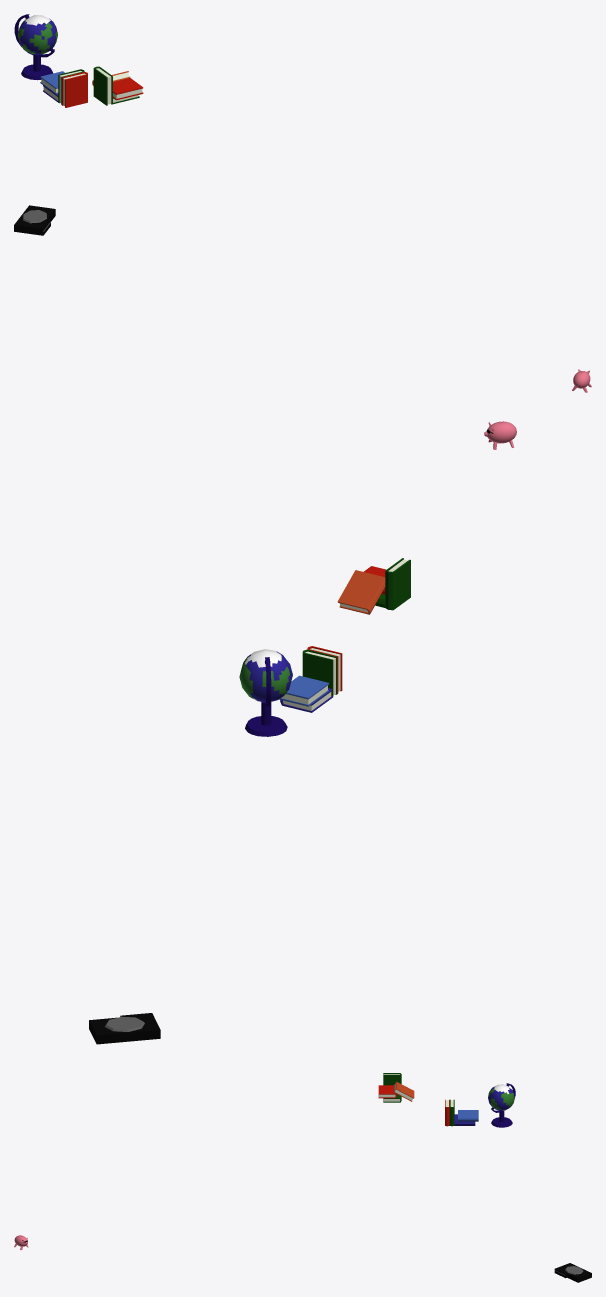
The model's file is maisCoisa.fbx.
The picture shows the model from 3 angles, top to bottom: view 1: azimuth 30°, elevation 25°; view 2: azimuth 150°, elevation 25°; view 3: azimuth 270°, elevation 25°; orthographic projection. The views are drawn at different scales.
Parts seen in each view (by area): view 1: Globo, Cubo, Livro.005, Suporte, Livro.010, Livro.011; view 2: Globo, Cubo, Livro.012, Suporte, Livro.010, Livro.006, Livro.008; view 3: Globo, Cubo, Suporte.
Boxes of the visible parts, x1,y1,x2,y2 form: Globo: [18, 15, 57, 54]; Cubo: [14, 205, 55, 235]; Livro.005: [62, 72, 87, 107]; Suporte: [14, 14, 54, 80]; Livro.010: [93, 66, 112, 105]; Livro.011: [113, 78, 143, 100]; Globo: [239, 649, 292, 702]; Cubo: [89, 1013, 160, 1044]; Livro.012: [337, 570, 385, 614]; Suporte: [245, 657, 287, 736]; Livro.010: [385, 558, 410, 610]; Livro.006: [302, 649, 337, 697]; Livro.008: [279, 675, 329, 706]; Globo: [488, 1084, 514, 1110]; Cubo: [554, 1263, 591, 1282]; Suporte: [491, 1083, 515, 1127].
Bounding box in the file's own units: 6858 × 8235 × 24133.
